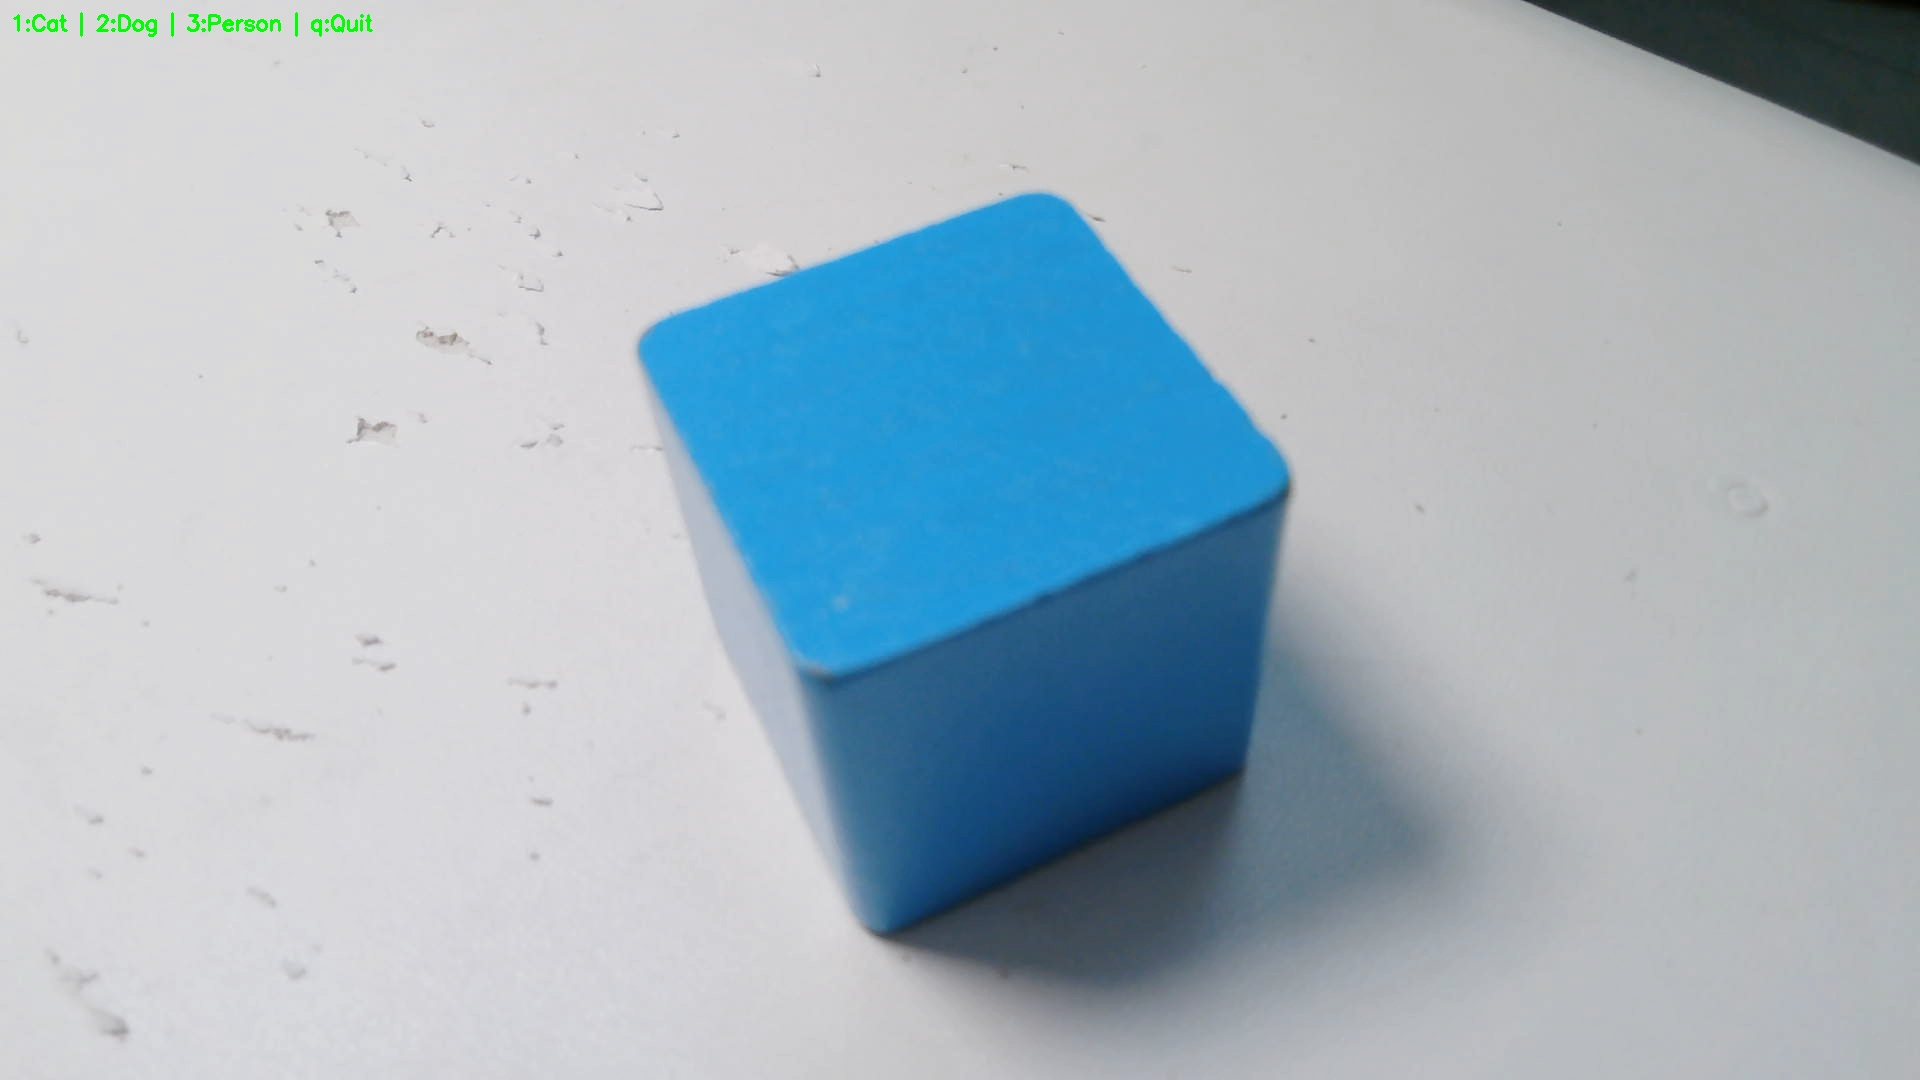blue: (634, 193, 1295, 935)
